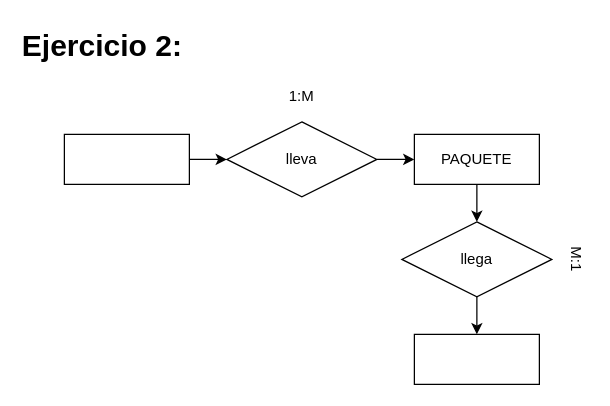
Some shapes in this 610 by 406 pixel diagram are drawn without their labels. Here are the shapes that lost their labels. From the top down, the box of each, then its label:
(63, 133, 189, 184): CAMIONERO
(413, 333, 539, 384): PROVINCIA
